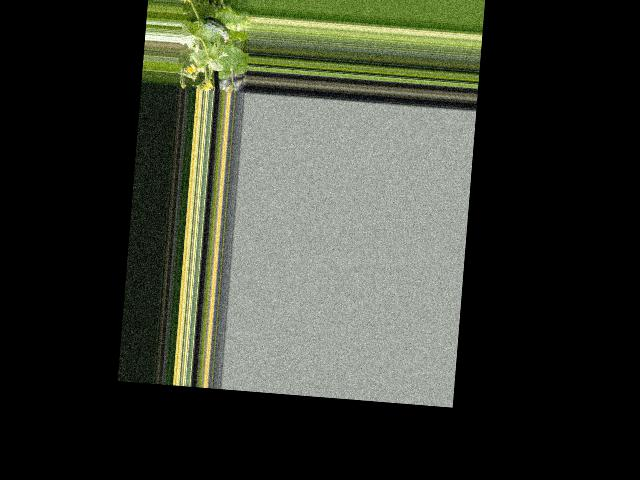cucumber: (200, 16, 231, 43)
